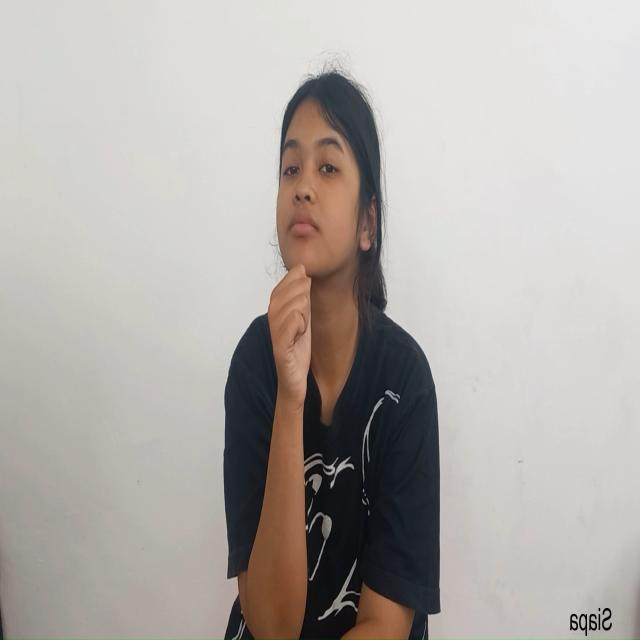Siapa -BISINDO-: (266, 64, 380, 413)
